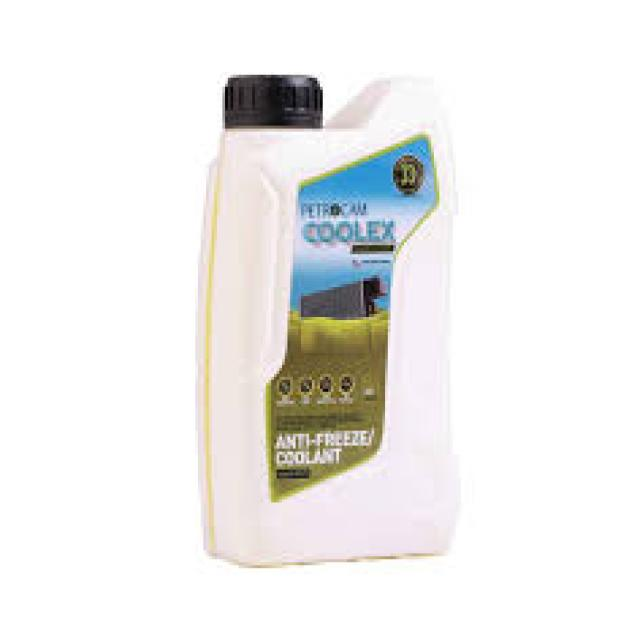coolant: (192, 56, 462, 563)
